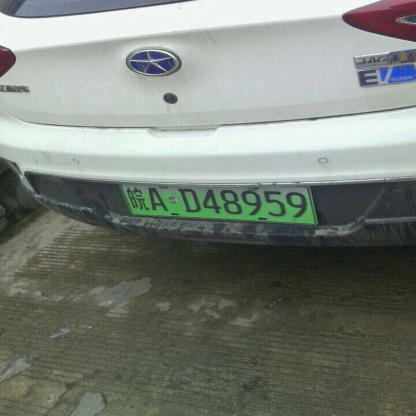lp: (120, 183, 314, 223)
